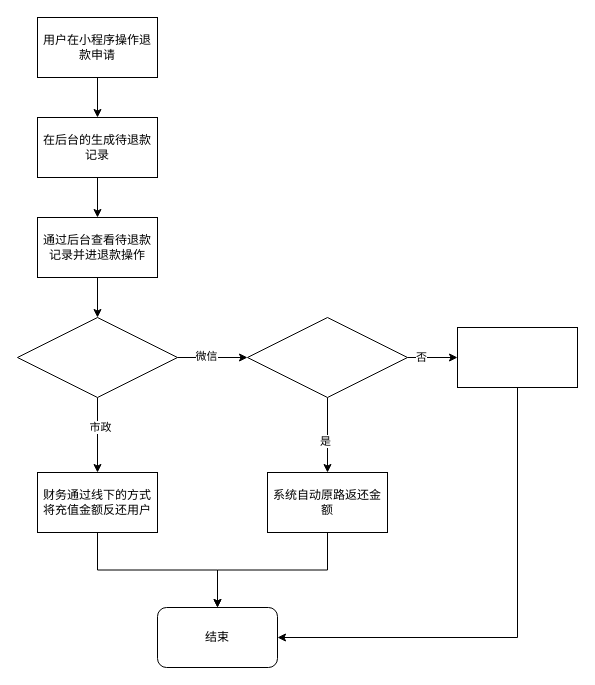
Image size: 595x685. Some labels were removed from this diagram. Each missing label, with the centre of its shape:
系统判断充值来源: point 97,357
系统判断微信备付金 是否足够: point 327,357
财务往备付金打钱或等待备付金足够时再进行退款操作: point 517,357
